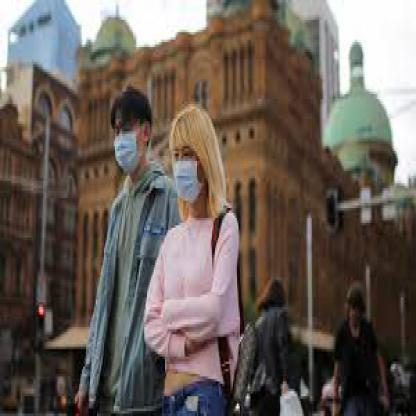Wearing_Mask: (168, 116, 212, 210), (105, 96, 143, 176)
